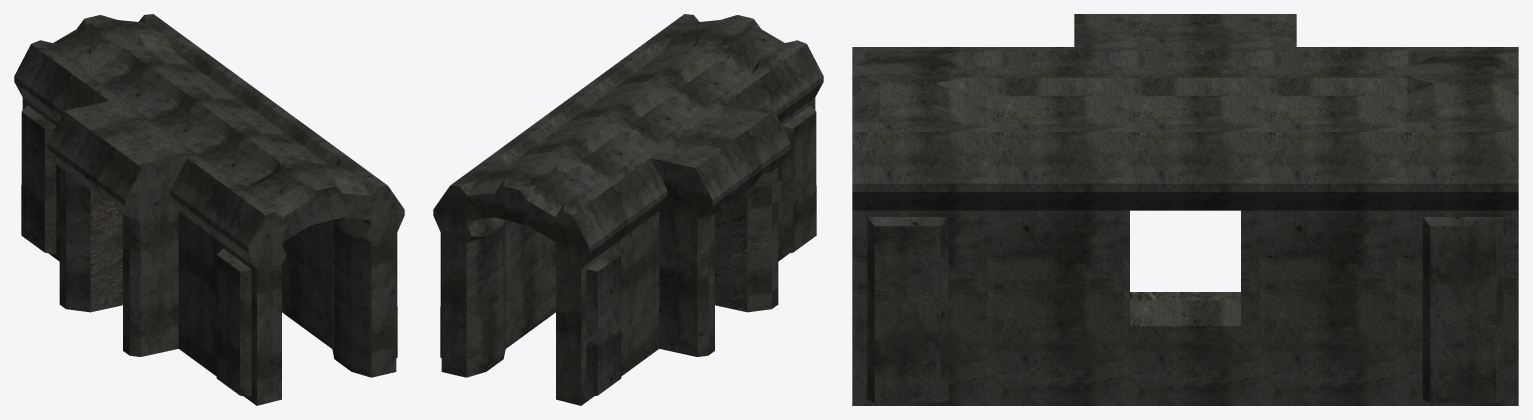
Rendered from tunnel2.obj.
3 views of the same model, side by side, from view 1: azimuth 30°, elevation 25°; view 2: azimuth 150°, elevation 25°; view 3: azimuth 270°, elevation 25° (orthographic). The views are drawn at different scales.
Visible parts, largest first — view 1: Cube_Cube.001; view 2: Cube_Cube.001; view 3: Cube_Cube.001.
Part boxes in pixels (x1,y1,x2,y2): Cube_Cube.001: (14,14,404,405); Cube_Cube.001: (433,14,823,405); Cube_Cube.001: (852,14,1518,405).
Bounding box in the file's own units: 12.71 × 12.07 × 25.56.
